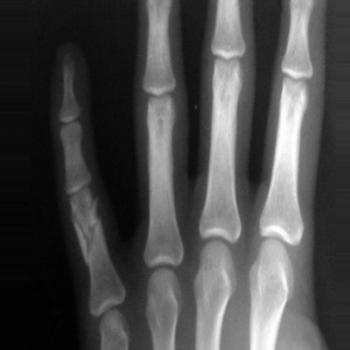Fracture: (66, 196, 106, 262)
